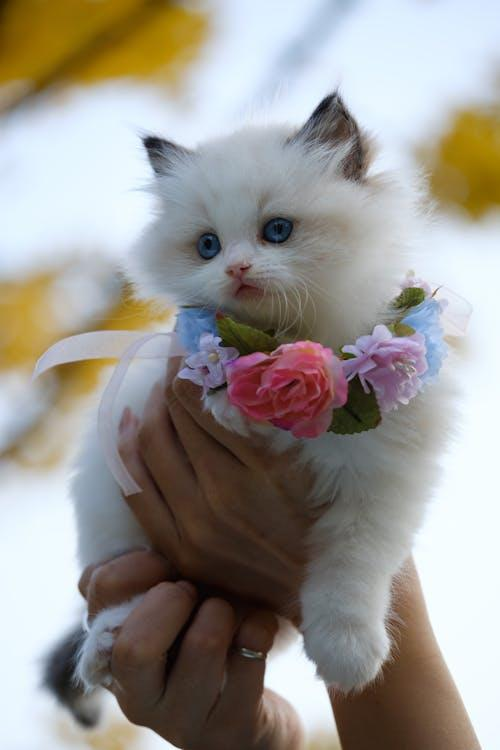kedo: (39, 91, 469, 730)
